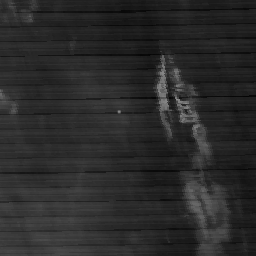Target: (116, 109, 122, 115)
